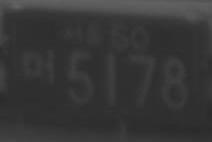0: (131, 23, 151, 55)
1: (97, 52, 124, 107)
5: (64, 49, 95, 107), (109, 20, 131, 53)
7: (127, 54, 157, 110)
8: (158, 54, 190, 111)
머: (20, 46, 57, 87)
서울_O: (57, 15, 106, 48)
